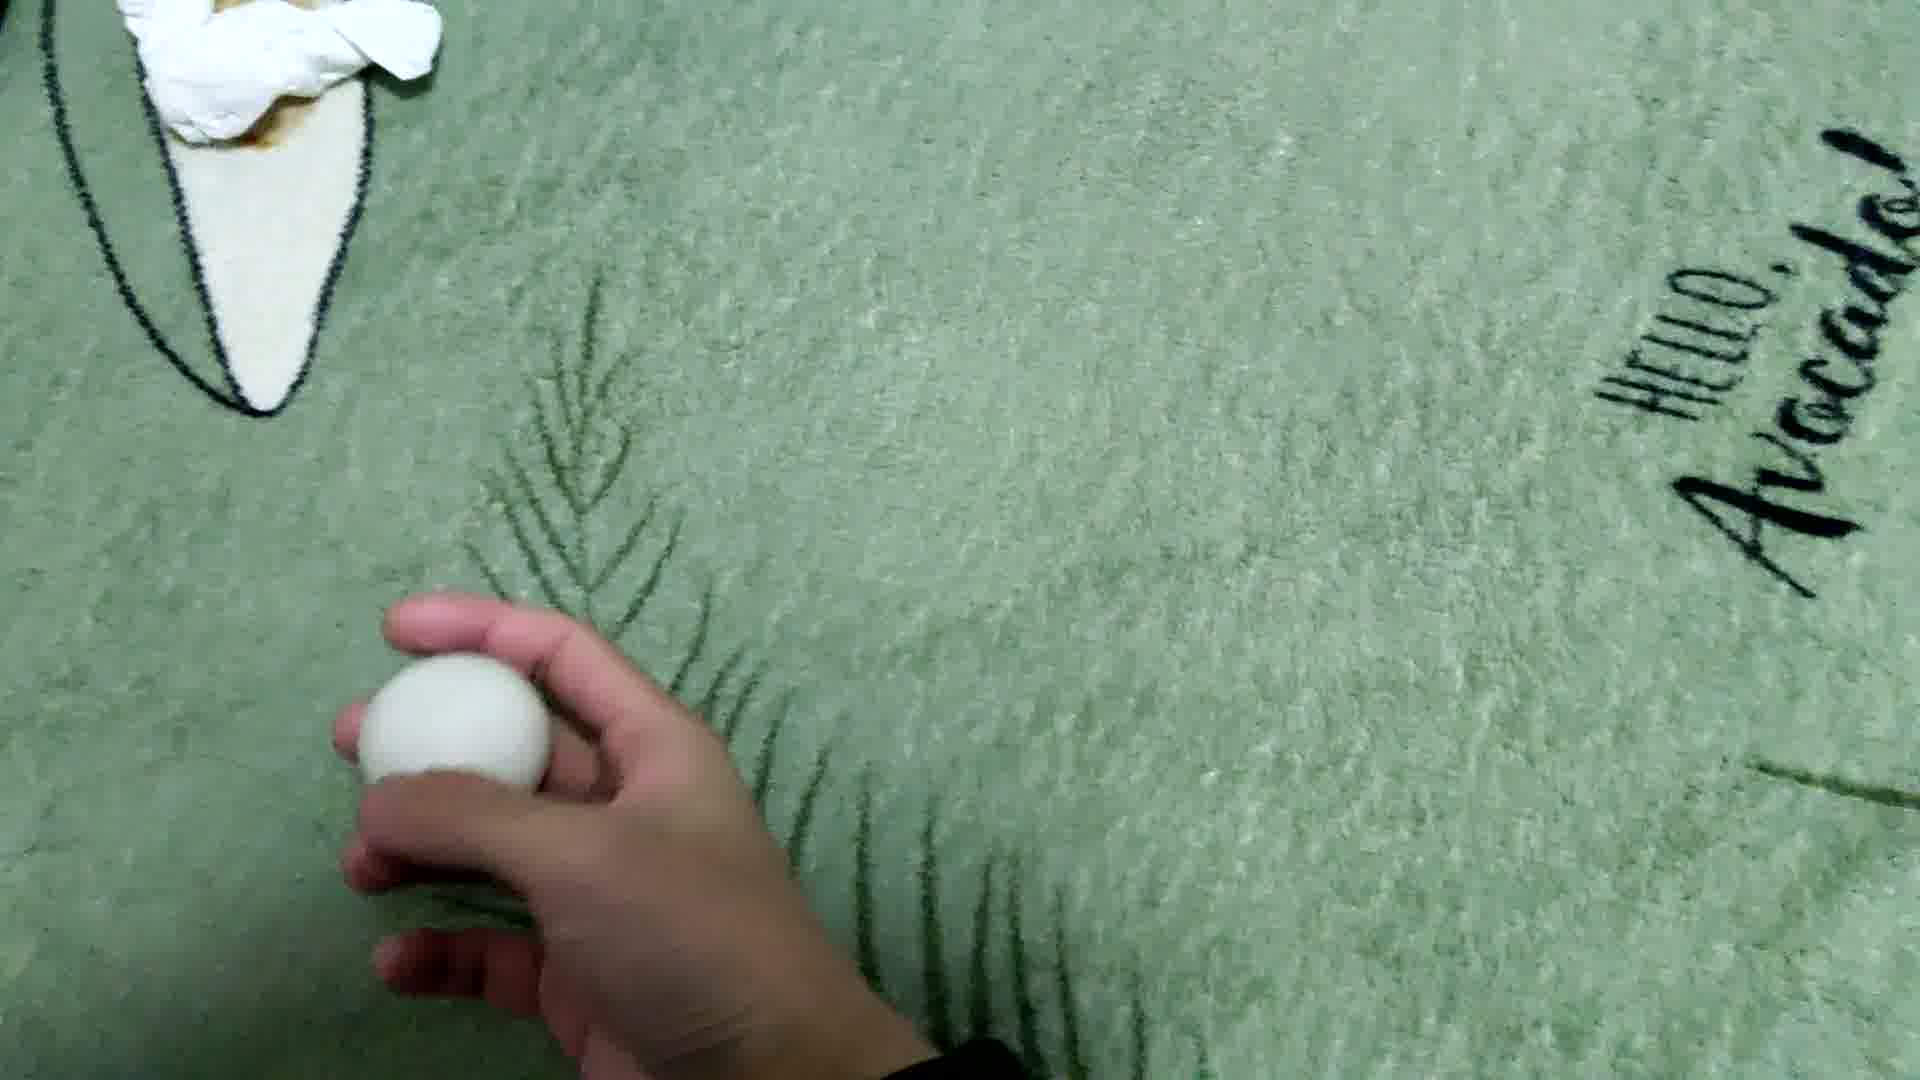Ball: (351, 650, 554, 816)
